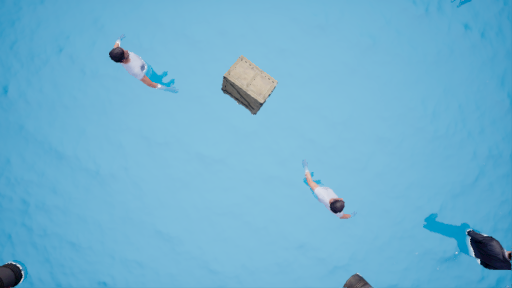person: (425, 209, 512, 275), (108, 41, 180, 100), (299, 165, 357, 216)
